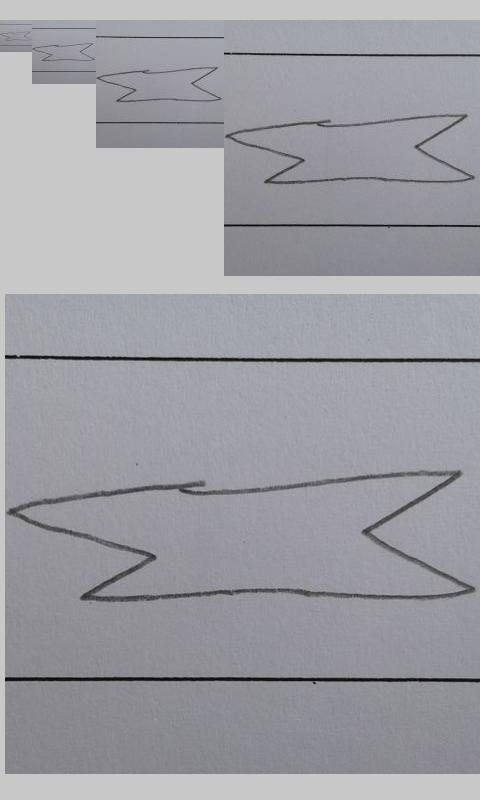edit_text: (11, 467, 480, 606), (226, 113, 475, 186), (98, 66, 223, 103), (32, 42, 95, 62), (1, 31, 31, 41)
